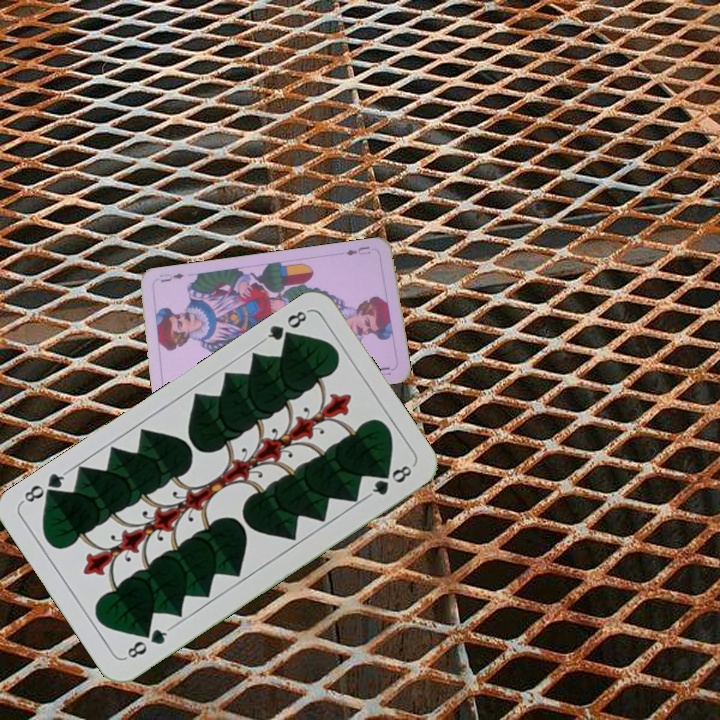EU: (342, 242, 373, 258)
G8: (258, 306, 311, 347), (120, 623, 173, 662)
